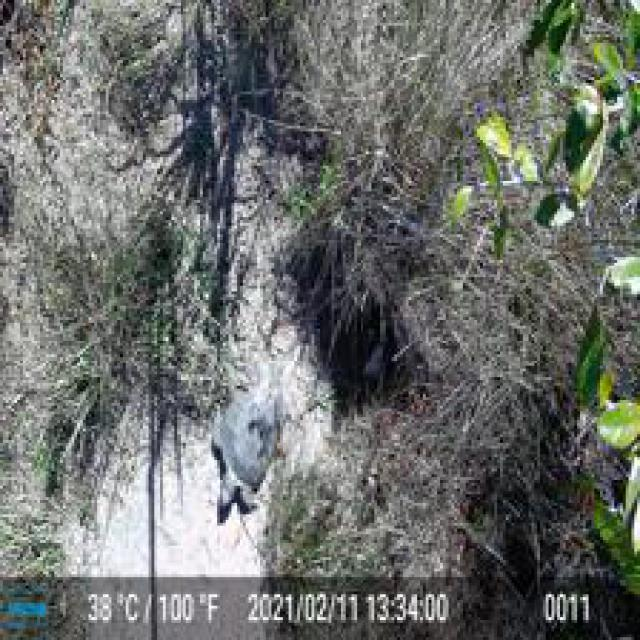tortoise: (212, 374, 274, 523)
